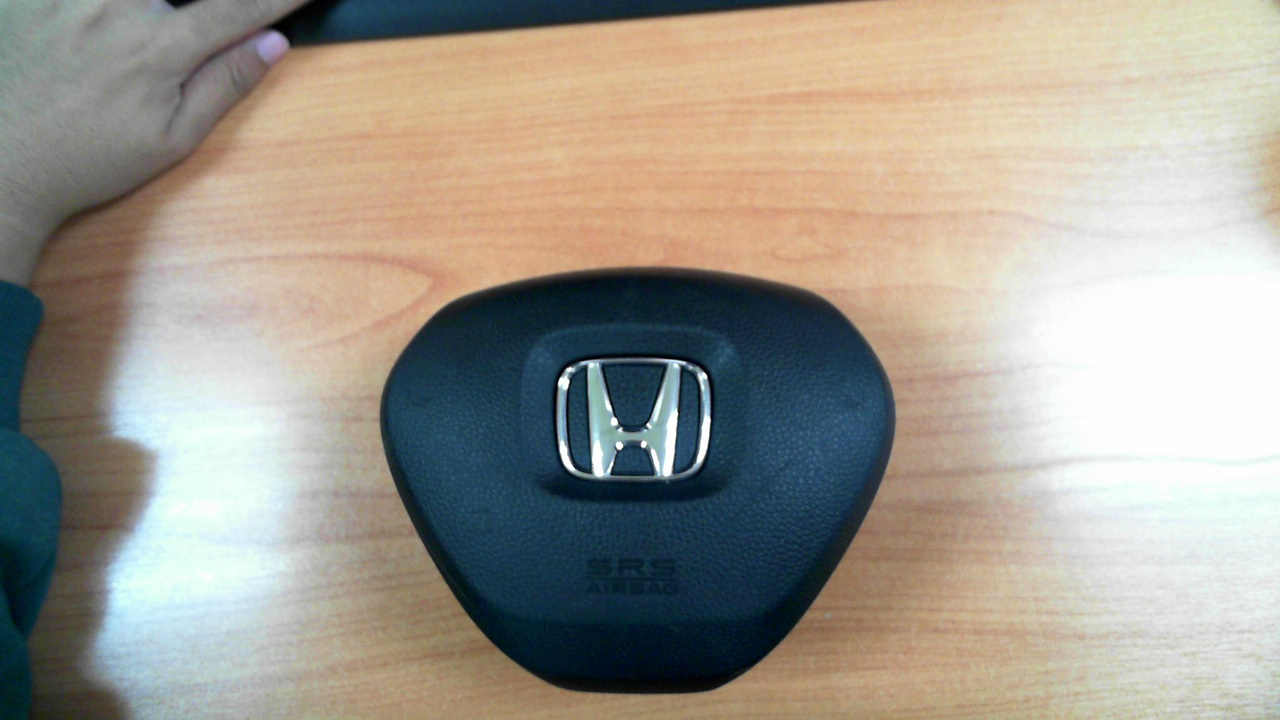Airbag: (379, 266, 897, 696)
Honda: (556, 357, 711, 479)
